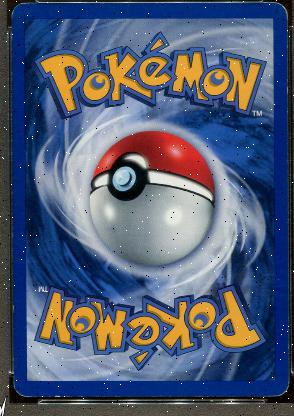Card: (8, 0, 291, 401)
Corner Wear: (261, 0, 287, 22), (13, 376, 37, 398), (258, 384, 287, 398), (10, 0, 27, 21)
Edge Wear: (10, 27, 12, 79), (286, 314, 288, 362), (284, 78, 286, 122), (49, 393, 68, 396), (192, 395, 210, 397), (12, 304, 14, 314)
